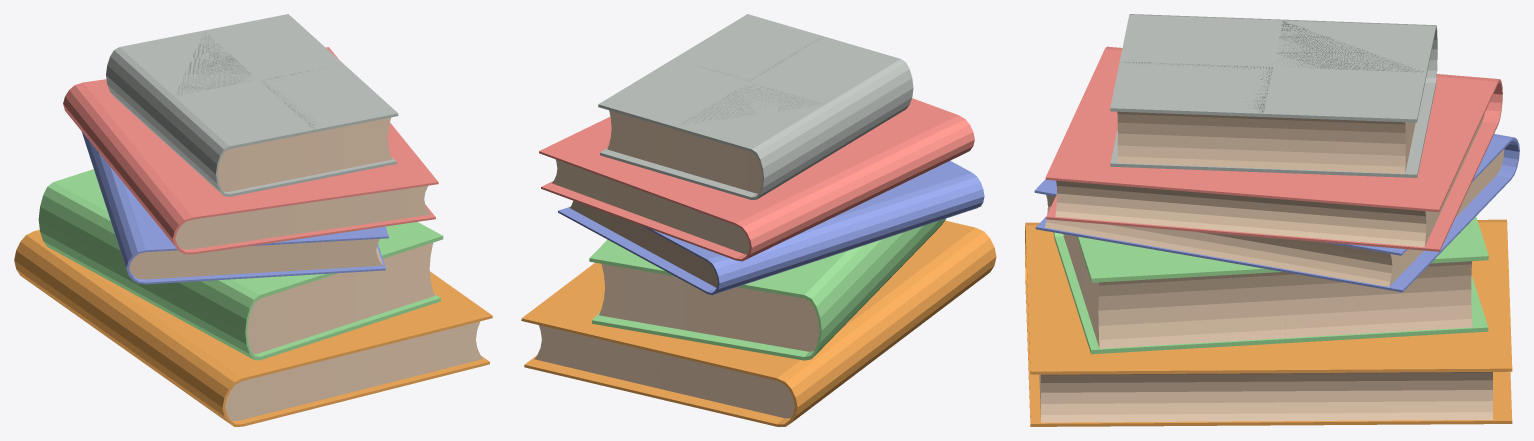
The model's file is Level_P_15.fbx.
3 views of the same model, side by side, from view 1: azimuth 30°, elevation 25°; view 2: azimuth 150°, elevation 25°; view 3: azimuth 270°, elevation 25° (orthographic). The views are drawn at different scales.
Parts seen in each view (by area): view 1: polySurface145.003, polySurface146.004, polySurface146.003, polySurface141, polySurface142, polySurface143, polySurface144, polySurface145.004, polySurface142.002, polySurface142.003, polySurface141.003, polySurface141.002 (+39 smaller); view 2: polySurface146.003, polySurface145.003, polySurface143, polySurface144, polySurface141, polySurface142, polySurface145.001, polySurface146.002, polySurface145.002, polySurface146.004, polySurface146.001, polySurface144.003 (+38 smaller); view 3: polySurface144.003, polySurface141.003, polySurface144, polySurface154.004, polySurface141, polySurface144.002, polySurface143, polySurface142, polySurface148.004, polySurface141.002, polySurface149.004, polySurface161.001 (+35 smaller).
Boxes of the visible parts, <box> form: polySurface145.003: <box>118,305,242,426</box>; polySurface146.004: <box>38,182,149,302</box>; polySurface146.003: <box>14,231,138,348</box>; polySurface141: <box>259,63,398,132</box>; polySurface142: <box>175,80,313,148</box>; polySurface143: <box>120,30,258,96</box>; polySurface144: <box>204,14,342,79</box>; polySurface145.004: <box>143,279,260,360</box>; polySurface142.002: <box>138,145,315,219</box>; polySurface142.003: <box>139,302,367,380</box>; polySurface141.003: <box>347,271,492,349</box>; polySurface141.002: <box>302,122,438,201</box>; polySurface146.003: <box>776,303,896,426</box>; polySurface145.003: <box>877,228,996,346</box>; polySurface143: <box>675,81,825,151</box>; polySurface144: <box>598,59,748,129</box>; polySurface141: <box>673,14,823,81</box>; polySurface142: <box>750,36,900,103</box>; polySurface145.001: <box>840,172,984,251</box>; polySurface146.002: <box>735,169,863,261</box>; polySurface145.002: <box>848,115,974,206</box>; polySurface146.004: <box>804,240,886,360</box>; polySurface146.001: <box>707,216,851,295</box>; polySurface144.003: <box>521,262,664,350</box>; polySurface144.003: <box>1270,295,1512,373</box>; polySurface141.003: <box>1028,298,1271,374</box>; polySurface144: <box>1263,67,1426,122</box>; polySurface154.004: <box>1081,258,1285,348</box>; polySurface141: <box>1110,61,1272,116</box>; polySurface144.002: <box>1242,142,1468,212</box>; polySurface143: <box>1273,20,1435,74</box>; polySurface142: <box>1119,14,1282,66</box>; polySurface148.004: <box>1285,289,1472,337</box>; polySurface141.002: <box>1045,113,1251,195</box>; polySurface149.004: <box>1081,251,1285,310</box>; polySurface161.001: <box>1040,375,1492,403</box>.
Bounding box in the file's own units: 2.63 × 1.87 × 2.94.
